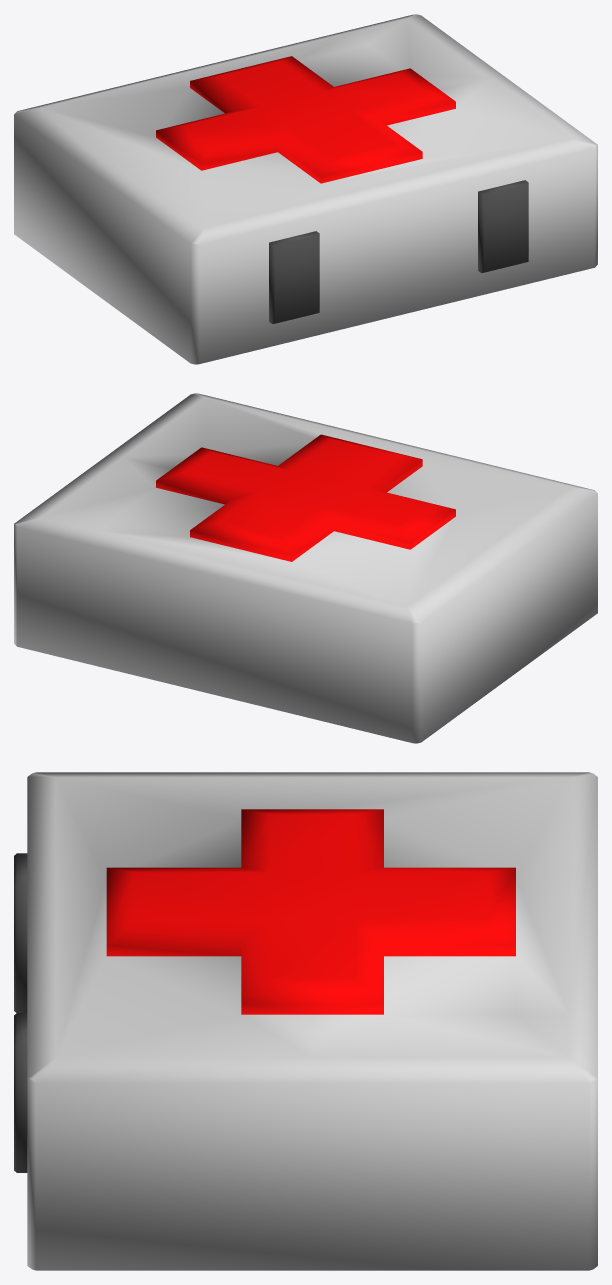
The model's file is Medkit.dae.
3 renders of one model, top to bottom at view 1: azimuth 30°, elevation 25°; view 2: azimuth 150°, elevation 25°; view 3: azimuth 270°, elevation 25°, orthographic. The views are drawn at different scales.
Visible parts, largest first — view 1: Cube; view 2: Cube; view 3: Cube.
Part boxes in pixels (box(x1,y1,x2,y2)): Cube: box(14, 14, 597, 364); Cube: box(14, 393, 597, 743); Cube: box(14, 772, 597, 1270).
Size of the model in its own units: 3.12 by 2.47 by 1.17.
